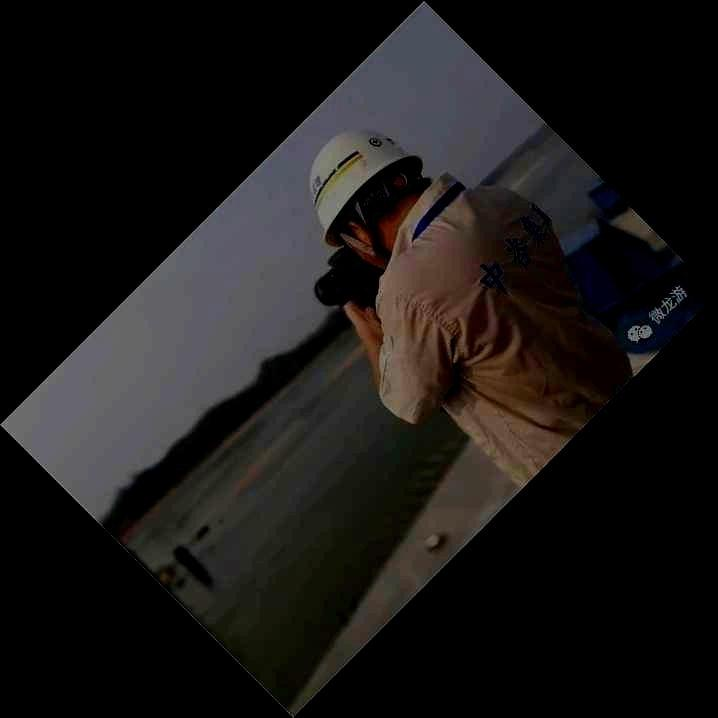helmet: (309, 126, 424, 271)
